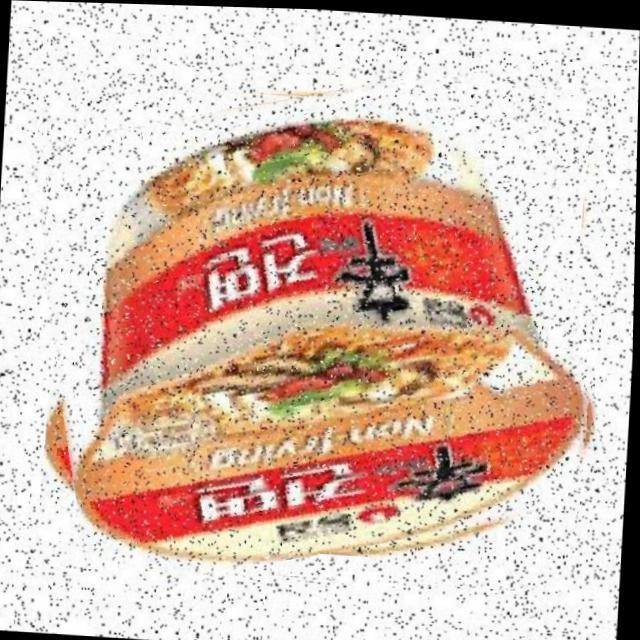Miscellaneous: (29, 56, 616, 598)
